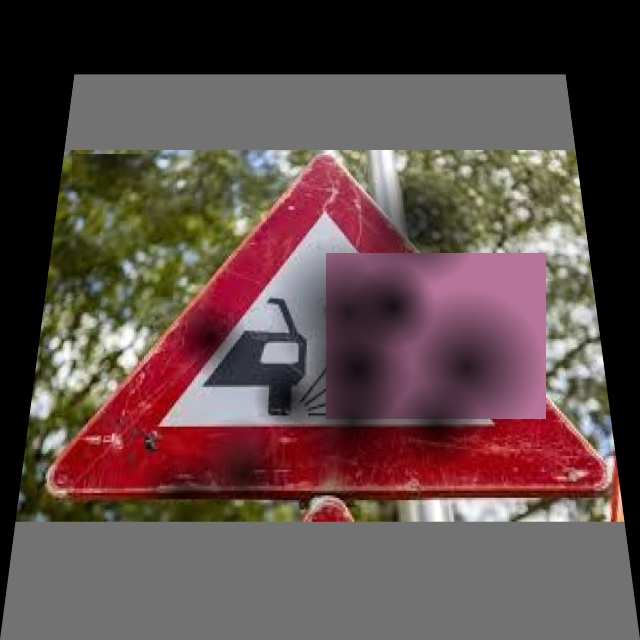Loose_Gravel: (72, 154, 595, 499)
